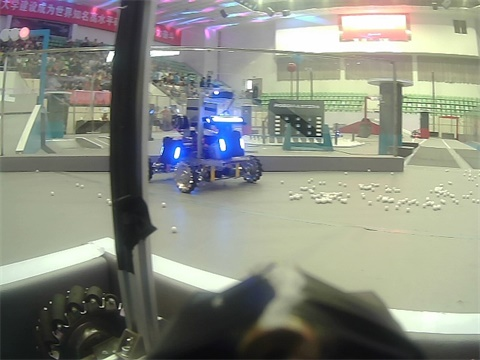chariot: (156, 74, 280, 207)
